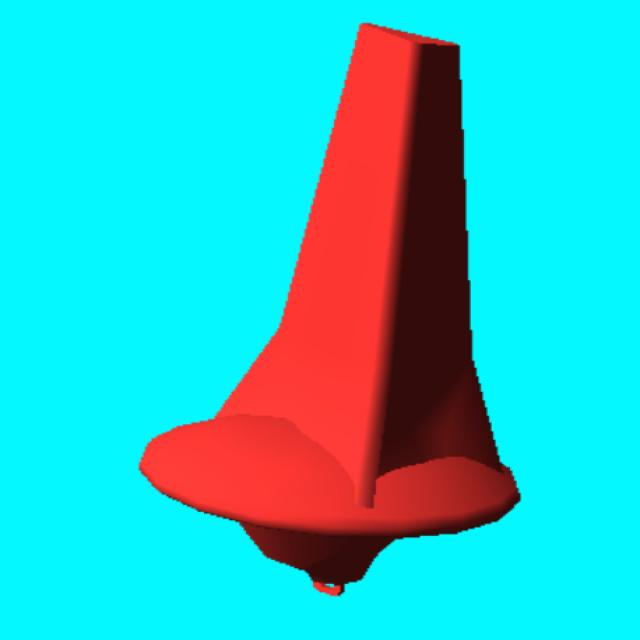RedBuoy: (141, 25, 518, 594)
